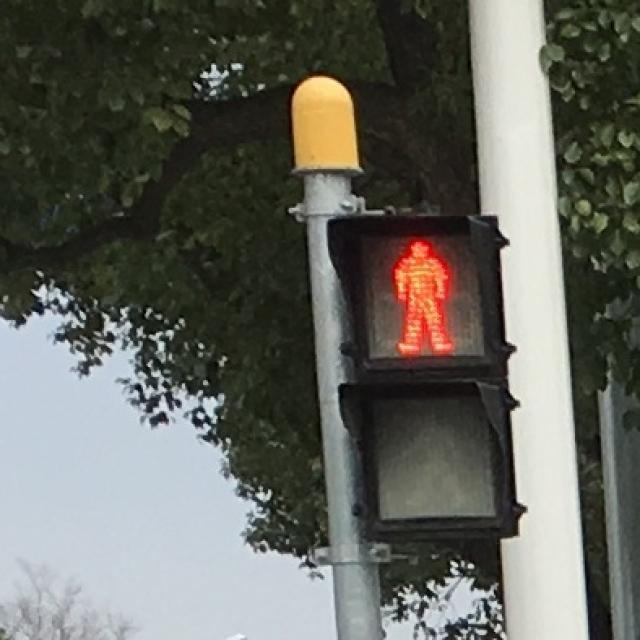red-crossing: (358, 227, 482, 364)
